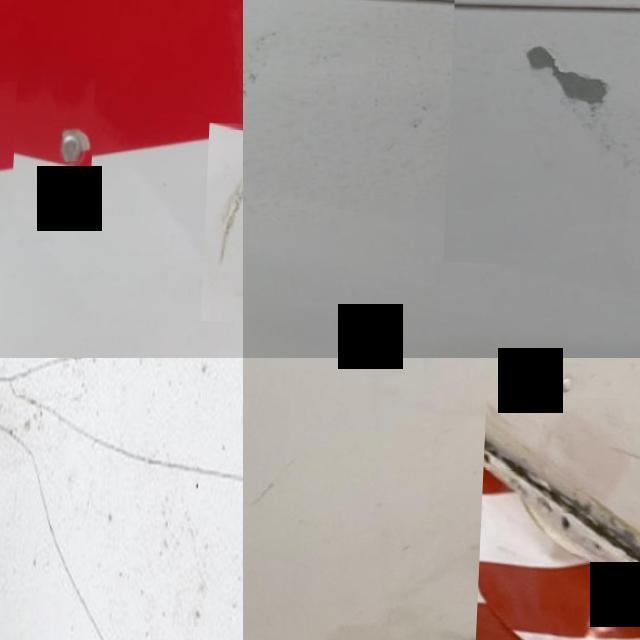Crack: (447, 0, 640, 267), (481, 391, 640, 640), (0, 392, 188, 470), (15, 68, 98, 216), (204, 118, 243, 319)
